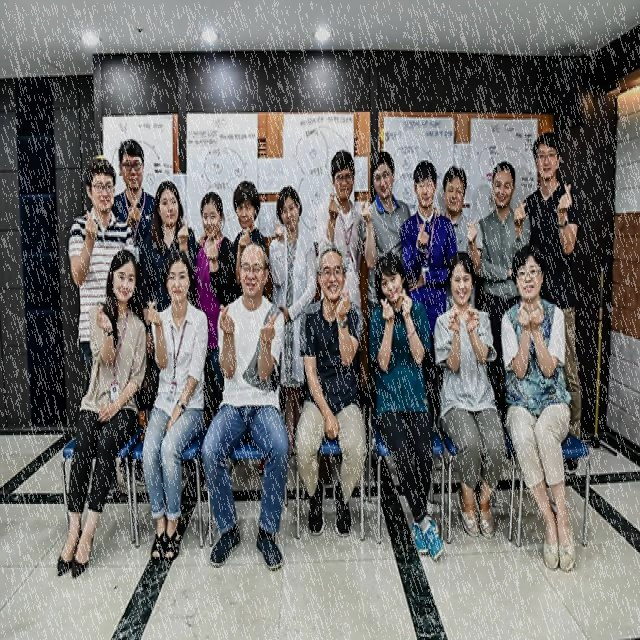pessoa: (52, 245, 150, 581), (198, 235, 292, 573), (498, 240, 579, 574), (365, 248, 446, 565), (291, 243, 369, 541), (138, 244, 210, 566), (431, 247, 509, 542), (520, 130, 586, 476), (398, 157, 459, 472), (108, 136, 164, 454), (314, 148, 364, 486), (474, 158, 534, 437), (66, 156, 138, 367), (266, 184, 320, 464), (360, 148, 444, 326), (140, 179, 198, 357), (196, 190, 237, 429), (440, 163, 484, 312), (231, 179, 268, 307)
